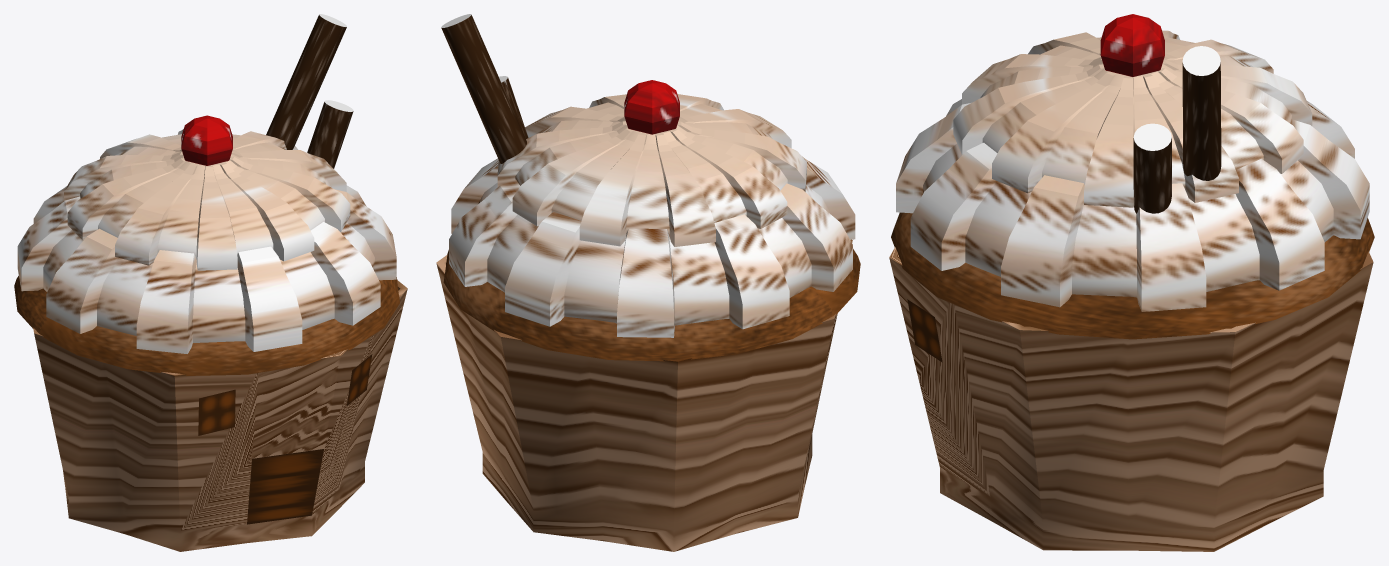
File: chocolate cupcake.fbx
3 renders of one model, left to right at view 1: azimuth 30°, elevation 25°; view 2: azimuth 150°, elevation 25°; view 3: azimuth 270°, elevation 25°, orthographic. The views are drawn at different scales.
Parts seen in each view (by area): view 1: cupcake_base1; view 2: cupcake_base1; view 3: cupcake_base1.
Boxes of the visible parts, x1,y1,x2,y2 form: cupcake_base1: (14, 14, 407, 551); cupcake_base1: (436, 14, 860, 551); cupcake_base1: (889, 14, 1374, 551).
Size of the model in its own units: 14.33 by 16.73 by 14.25.
1 material, 1 textured.
